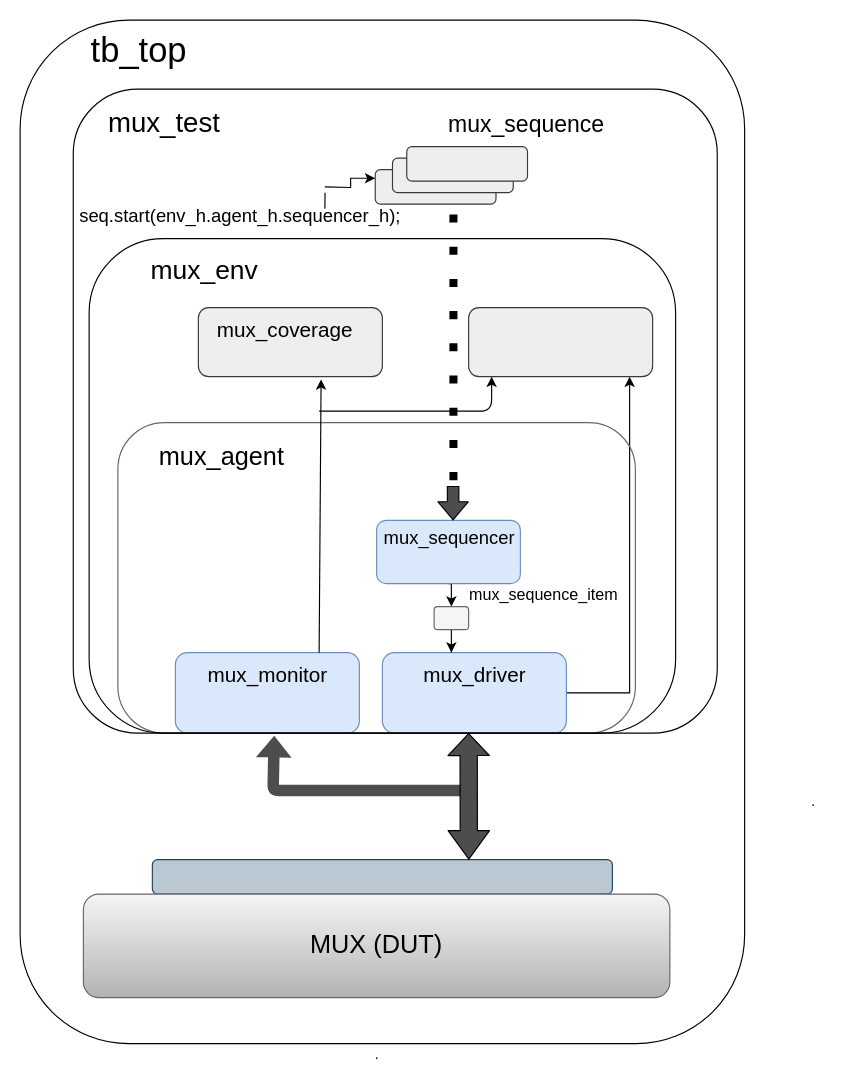
The diagram is 857 pixels wide and 1087 high, and some of its shapes have lost their labels. The centre of each missing label's shape, as x and y in pixels:
interface: pixel 381 876
mux_scoreboard: pixel 560 341
